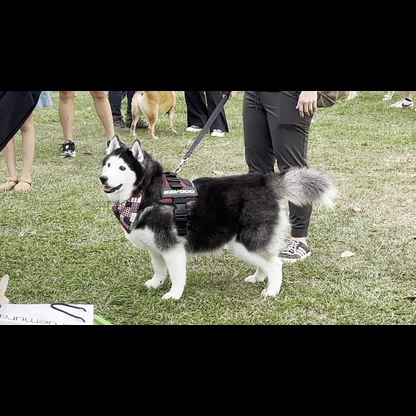husky: (91, 131, 345, 305)
